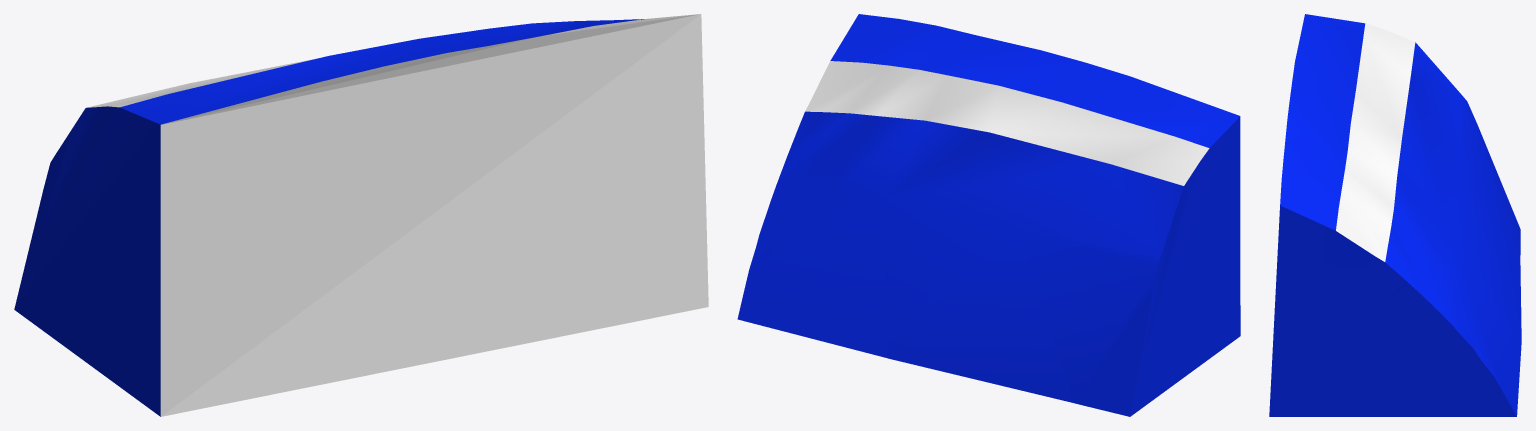
3 renders of one model, left to right at view 1: azimuth 30°, elevation 25°; view 2: azimuth 150°, elevation 25°; view 3: azimuth 270°, elevation 25°, orthographic. The views are drawn at different scales.
Parts seen in each view (by area): view 1: base_link; view 2: base_link; view 3: base_link.
Boxes of the visible parts, x1,y1,x2,y2 form: base_link: (14,14,708,416); base_link: (737,14,1240,416); base_link: (1269,14,1521,416).
Bounding box in the file's own units: 1.8 × 1 × 1.02.
3 materials, 3 textured.
